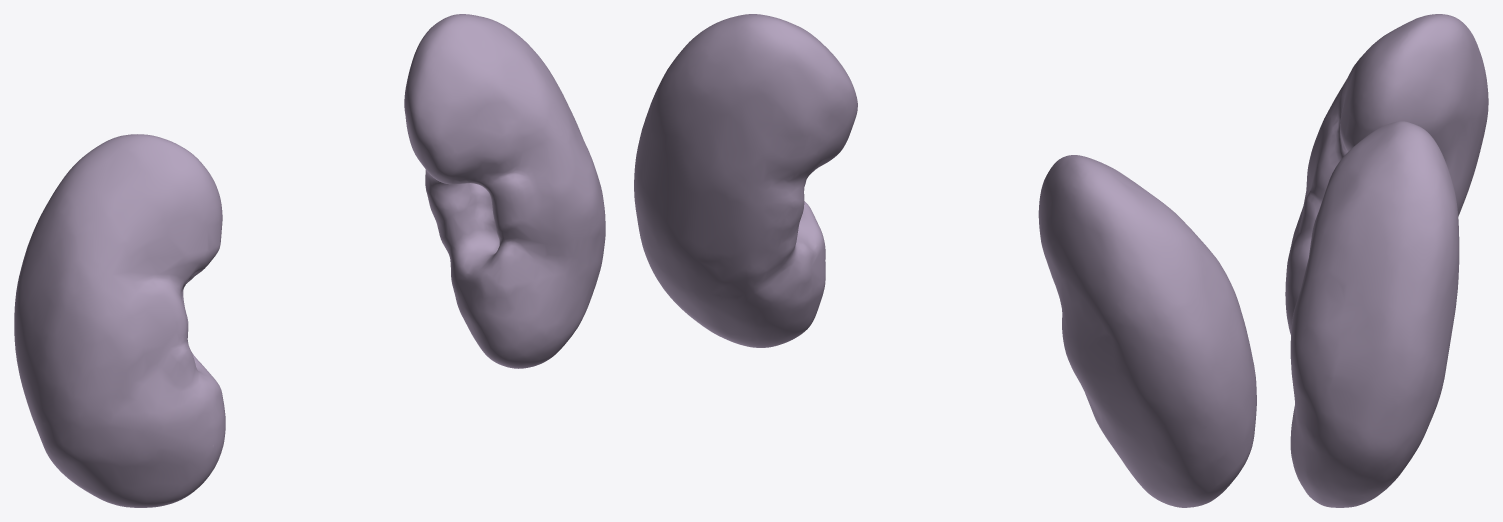
Rendered from kidneys.glb.
3 views of the same model, side by side, from view 1: azimuth 30°, elevation 25°; view 2: azimuth 150°, elevation 25°; view 3: azimuth 270°, elevation 25° (orthographic). The views are drawn at different scales.
Visible parts, largest first — view 1: world; view 2: world; view 3: world.
Part boxes in pixels (x1,y1,x2,y2): world: (14,14,605,507); world: (634,14,1256,507); world: (1285,14,1488,507).
Size of the model in its own units: 2 by 1.31 by 0.5876.
